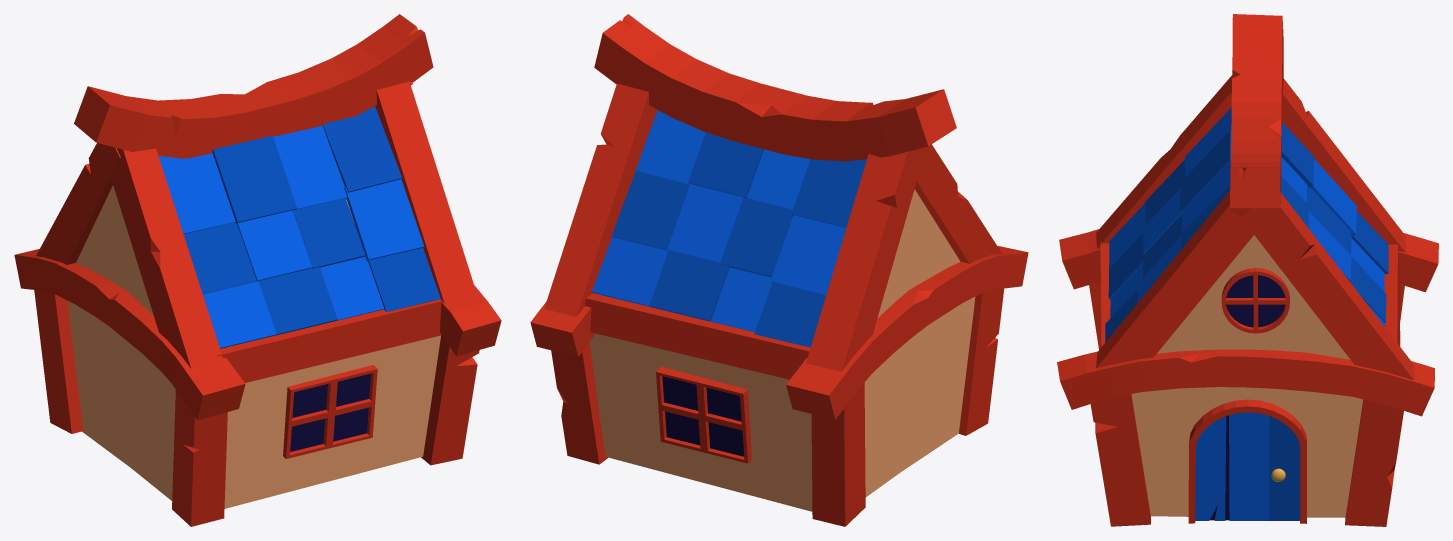
File: lit_house.fbx
3 renders of one model, left to right at view 1: azimuth 30°, elevation 25°; view 2: azimuth 150°, elevation 25°; view 3: azimuth 270°, elevation 25°, orthographic. The views are drawn at different scales.
Parts seen in each view (by area): view 1: PAREDES, Cubo.004, Cubo.007, Cubo.026, Cubo.008, Cubo.009, ventana.001, Cubo.013, Cubo.031, Cubo.003, Cubo.012, Cubo.006 (+12 smaller); view 2: PAREDES, Cubo.004, Cubo.006, Cubo.026, Cubo.005, Cubo.011, ventana, Cubo.012, Cubo.007, Cubo.002, Cubo.015, Cubo.013 (+12 smaller); view 3: PAREDES, Cubo.001, puerta, Cubo.005, Cubo.004, Cubo.008, Cubo.003, Cubo.002, Cubo.006, Cubo.007, Cubo.026, ventana circular (+24 smaller).
Part boxes in pixels (box(x1,y1,x2,y2)): PAREDES: box(68, 185, 440, 508); Cubo.004: box(74, 14, 433, 158); Cubo.007: box(111, 148, 223, 369); Cubo.026: box(14, 249, 245, 420); Cubo.008: box(375, 81, 477, 303); Cubo.009: box(217, 299, 442, 382); ventana.001: box(283, 365, 377, 458); Cubo.013: box(172, 390, 227, 526); Cubo.031: box(212, 135, 297, 223); Cubo.003: box(421, 335, 479, 465); Cubo.012: box(34, 290, 83, 433); Cubo.006: box(36, 143, 120, 264); PAREDES: box(589, 189, 975, 511); Cubo.004: box(594, 14, 956, 161); Cubo.006: box(806, 147, 926, 371); Cubo.026: box(786, 246, 1028, 419); Cubo.005: box(544, 83, 657, 316); Cubo.011: box(585, 293, 810, 379); ventana: box(656, 366, 751, 463); Cubo.012: box(811, 383, 865, 526); Cubo.007: box(914, 144, 1001, 263); Cubo.002: box(551, 342, 607, 464); Cubo.015: box(770, 215, 846, 295); Cubo.013: box(959, 288, 1004, 435); PAREDES: box(1131, 235, 1363, 517); Cubo.001: box(1057, 349, 1434, 416); puerta: box(1188, 399, 1306, 523); Cubo.005: box(1228, 192, 1414, 380); Cubo.004: box(1230, 14, 1283, 208); Cubo.008: box(1096, 191, 1253, 368); Cubo.003: box(1090, 394, 1150, 526); Cubo.002: box(1345, 399, 1403, 526); Cubo.006: box(1282, 78, 1405, 252); Cubo.007: box(1096, 75, 1232, 248); Cubo.026: box(1059, 229, 1438, 292); ventana circular: box(1221, 268, 1289, 333).
Bounding box in the file's own units: 766 × 831 × 767.
